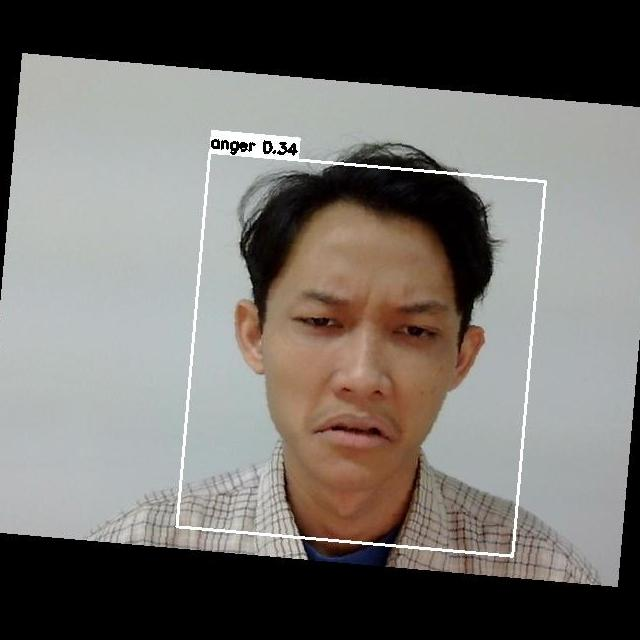Sad: (270, 257, 449, 462)
